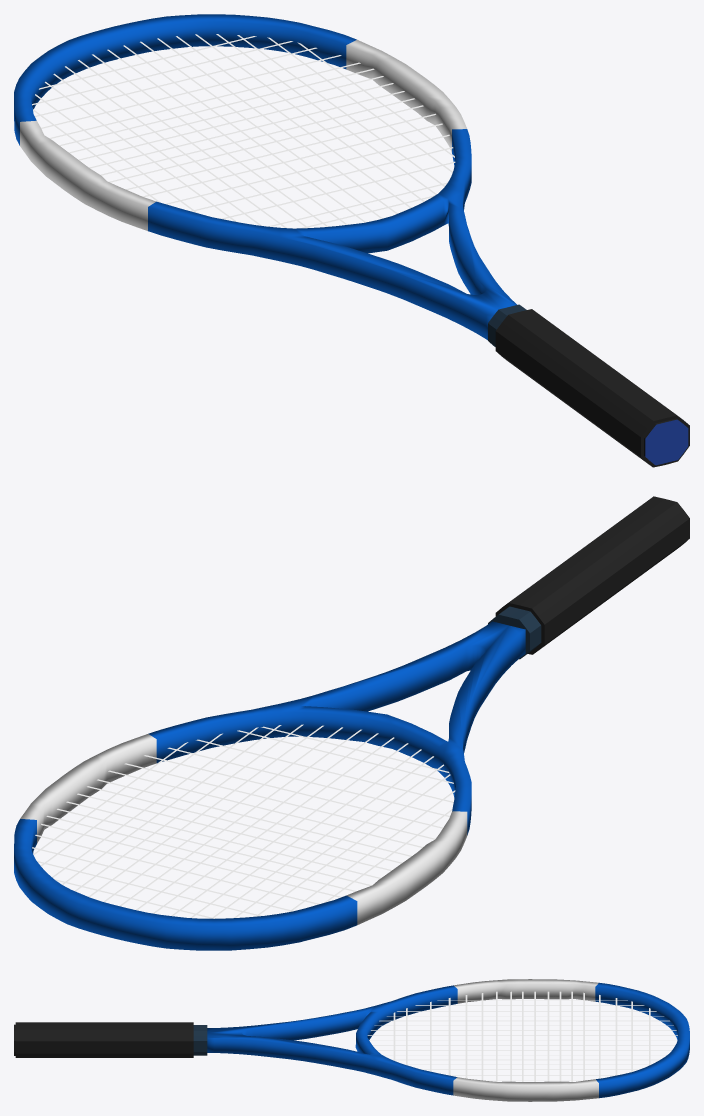
File: RacketBlue.fbx
3 renders of one model, top to bottom at view 1: azimuth 30°, elevation 25°; view 2: azimuth 150°, elevation 25°; view 3: azimuth 270°, elevation 25°, orthographic. The views are drawn at different scales.
Parts seen in each view (by area): view 1: Frame, Gut, Grip; view 2: Frame, Gut, Grip; view 3: Frame, Gut, Grip.
Part boxes in pixels (x1,y1,x2,y2): Frame: [14, 14, 517, 340]; Gut: [32, 34, 455, 228]; Grip: [488, 304, 689, 467]; Frame: [14, 621, 525, 950]; Gut: [32, 724, 455, 918]; Grip: [488, 496, 689, 659]; Frame: [207, 979, 689, 1101]; Gut: [367, 991, 677, 1081]; Grip: [14, 1022, 207, 1057].
Size of the model in its own units: 1.86 by 0.231 by 4.94.
